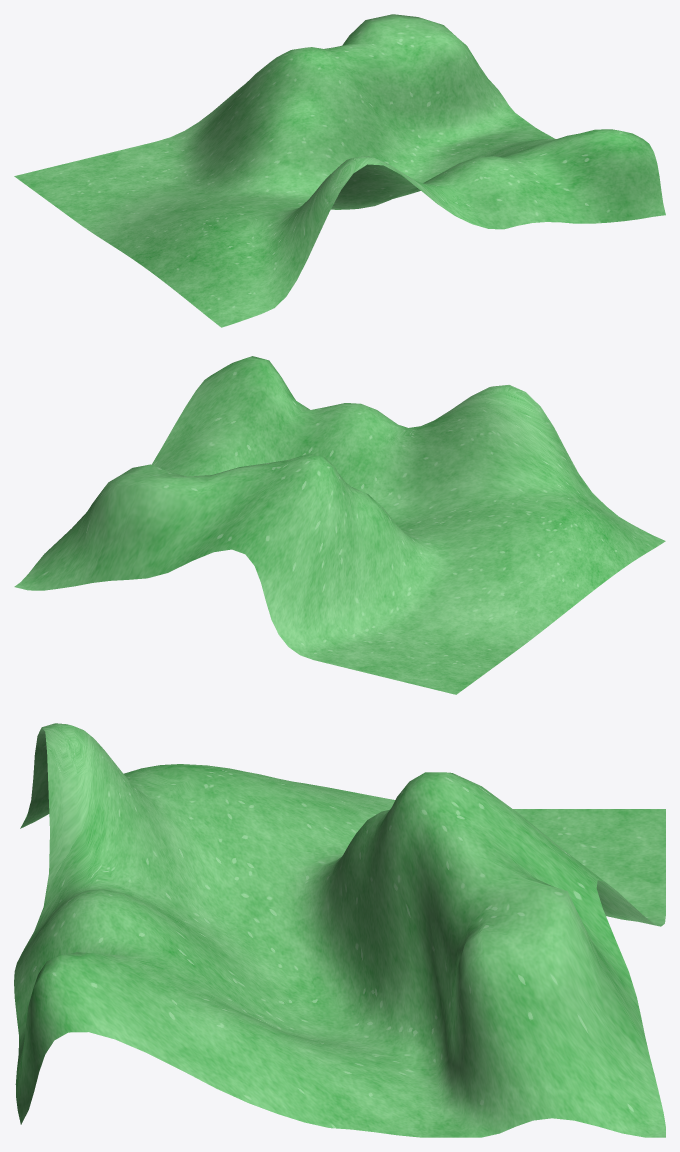
The model's file is Ground.obj.
The picture shows the model from 3 angles, top to bottom: view 1: azimuth 30°, elevation 25°; view 2: azimuth 150°, elevation 25°; view 3: azimuth 270°, elevation 25°; orthographic projection. The views are drawn at different scales.
Visible parts, largest first — view 1: 平面; view 2: 平面; view 3: 平面.
Part boxes in pixels (x1,y1,x2,y2): 平面: (14,14,665,327); 平面: (14,356,665,694); 平面: (14,723,665,1137).
Size of the model in its own units: 116 by 31.13 by 94.26.
1 material, 1 textured.
